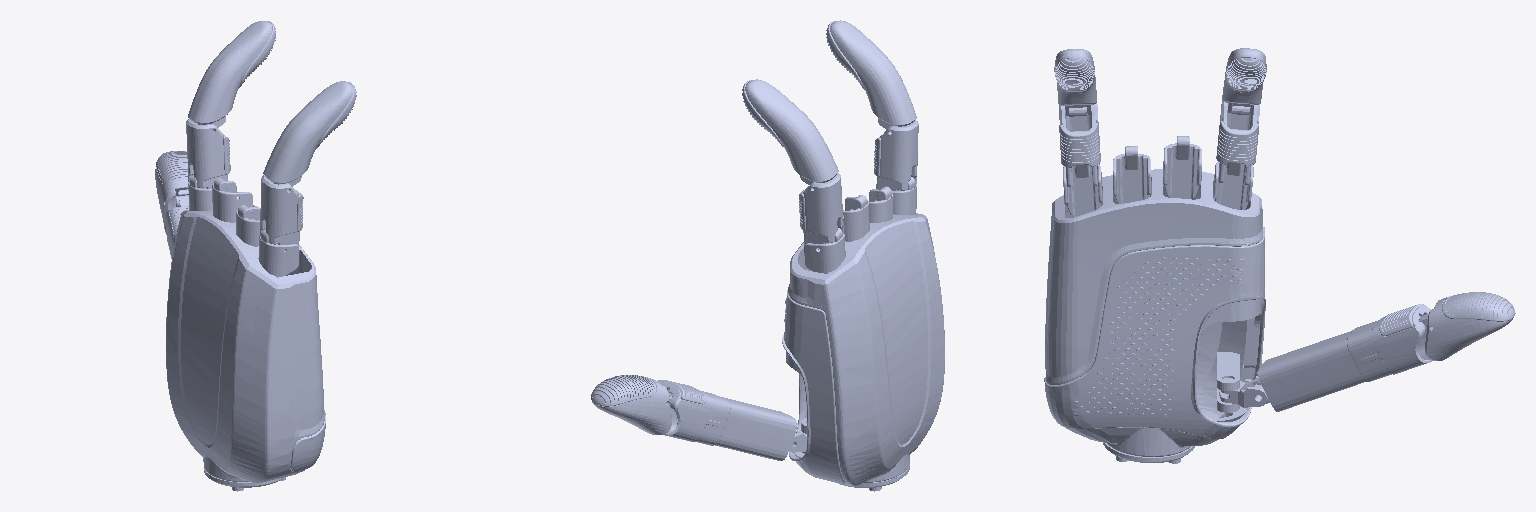
The robot description file, URDF, robot "linkerhand_L6V3.1_right":
<?xml version="1.0" encoding="utf-8"?>
<!-- This URDF was automatically created by SolidWorks to URDF Exporter! Originally created by Stephen Brawner (brawner@gmail.com) 
     Commit Version: 1.6.0-1-g15f4949  Build Version: 1.6.7594.29634
     For more information, please see http://wiki.ros.org/sw_urdf_exporter -->
<robot
  name="linkerhand_L6V3.1_right">
  <link
    name="hand_base_link">
    <inertial>
      <origin
        xyz="0.0120720994445363 -0.0533311205868962 0.118354546789334"
        rpy="0 0 0" />
      <mass
        value="0.525546548666235" />
      <inertia
        ixx="0.0187631035796005"
        ixy="-0.000730738470949583"
        ixz="1.75019990504221E-05"
        iyy="0.0015621317817439"
        iyz="-0.00131261480504079"
        izz="0.0174713068322666" />
    </inertial>
    <visual>
      <origin
        xyz="0 0 0"
        rpy="0 0 0" />
      <geometry>
        <mesh
          filename="meshes/hand_base_link.STL" />
      </geometry>
      <material
        name="">
        <color
          rgba="0.796078431372549 0.823529411764706 0.937254901960784 1" />
      </material>
    </visual>
    <collision>
      <origin
        xyz="0 0 0"
        rpy="0 0 0" />
      <geometry>
        <mesh
          filename="meshes/hand_base_link.STL" />
      </geometry>
    </collision>
  </link>
  <link
    name="thumb_metacarpals_base1">
    <inertial>
      <origin
        xyz="0.00425883553080008 -0.0873259584388277 0.0896834833730557"
        rpy="0 0 0" />
      <mass
        value="0.525546548666235" />
      <inertia
        ixx="0.0187631035796005"
        ixy="-0.000730904135775121"
        ixz="-8.011067551805E-06"
        iyy="0.00167307213734324"
        iyz="-0.00186430131719871"
        izz="0.0173603664766673" />
    </inertial>
    <visual>
      <origin
        xyz="0 0 0"
        rpy="0 0 0" />
      <geometry>
        <mesh
          filename="meshes/thumb_metacarpals_base1.STL" />
      </geometry>
      <material
        name="">
        <color
          rgba="0.796078431372549 0.823529411764706 0.937254901960784 1" />
      </material>
    </visual>
    <collision>
      <origin
        xyz="0 0 0"
        rpy="0 0 0" />
      <geometry>
        <mesh
          filename="meshes/thumb_metacarpals_base1.STL" />
      </geometry>
    </collision>
  </link>
  <joint
    name="thumb_cmc_roll"
    type="revolute">
    <origin
      xyz="0.0078133 0.030812 0.025678"
      rpy="-0.034907 0 0" />
    <parent
      link="hand_base_link" />
    <child
      link="thumb_metacarpals_base1" />
    <axis
      xyz="0 0 -1" />
    <limit
      lower="0"
      upper="1.53"
      effort="0"
      velocity="4.67" />
  </joint>
  <link
    name="thumb_metacarpals">
    <inertial>
      <origin
        xyz="0.0316012851206384 -0.121450158132549 -0.0438719467784548"
        rpy="0 0 0" />
      <mass
        value="0.525546548666235" />
      <inertia
        ixx="0.0173897805803727"
        ixy="0.00166977340768109"
        ixz="0.00443614151282338"
        iyy="0.0156514741779185"
        iyz="-0.00496661346948399"
        izz="0.00475528743531981" />
    </inertial>
    <visual>
      <origin
        xyz="0 0 0"
        rpy="0 0 0" />
      <geometry>
        <mesh
          filename="meshes/thumb_metacarpals.STL" />
      </geometry>
      <material
        name="">
        <color
          rgba="0.796078431372549 0.823529411764706 0.937254901960784 1" />
      </material>
    </visual>
    <collision>
      <origin
        xyz="0 0 0"
        rpy="0 0 0" />
      <geometry>
        <mesh
          filename="meshes/thumb_metacarpals.STL" />
      </geometry>
    </collision>
  </link>
  <joint
    name="thumb_cmc_pitch"
    type="revolute">
    <origin
      xyz="0.0045503 0.013664 0.0032288"
      rpy="-1.084 0.011362 -0.33143" />
    <parent
      link="thumb_metacarpals_base1" />
    <child
      link="thumb_metacarpals" />
    <axis
      xyz="1 0 0" />
    <limit
      lower="0"
      upper="0.73"
      effort="0"
      velocity="1.92" />
  </joint>
  <link
    name="thumb_distal">
    <inertial>
      <origin
        xyz="0.0316012851206471 -0.115350158132533 -0.126571946778471"
        rpy="0 0 0" />
      <mass
        value="0.525546548666235" />
      <inertia
        ixx="0.0173897805803722"
        ixy="0.00166977340768132"
        ixz="0.00443614151282414"
        iyy="0.0156514741779187"
        iyz="-0.00496661346948364"
        izz="0.0047552874353201" />
    </inertial>
    <visual>
      <origin
        xyz="0 0 0"
        rpy="0 0 0" />
      <geometry>
        <mesh
          filename="meshes/thumb_distal.STL" />
      </geometry>
      <material
        name="">
        <color
          rgba="0.796078431372549 0.823529411764706 0.937254901960784 1" />
      </material>
    </visual>
    <collision>
      <origin
        xyz="0 0 0"
        rpy="0 0 0" />
      <geometry>
        <mesh
          filename="meshes/thumb_distal.STL" />
      </geometry>
    </collision>
  </link>
  <joint
    name="thumb_dip"
    type="revolute">
    <origin
      xyz="0 -0.0061 0.0827"
      rpy="0 0 0" />
    <parent
      link="thumb_metacarpals" />
    <child
      link="thumb_distal" />
    <axis
      xyz="1 0 0" />
    <limit
      lower="0"
      upper="0.66"
      effort="0"
      velocity="1.7" />
    <mimic
      joint="thumb_cmc_pitch"
      multiplier="1.9"
      offset="0" />
  </joint>
  <link
    name="index_proximal">
    <inertial>
      <origin
        xyz="0.0127403110831121 -0.0862358557815982 -0.00532302727752912"
        rpy="0 0 0" />
      <mass
        value="0.525546548666235" />
      <inertia
        ixx="0.0187631035796022"
        ixy="-0.000729483190156132"
        ixz="-4.62526555258532E-05"
        iyy="0.00191091300899837"
        iyz="-0.00267397286461265"
        izz="0.0171225256050105" />
    </inertial>
    <visual>
      <origin
        xyz="0 0 0"
        rpy="0 0 0" />
      <geometry>
        <mesh
          filename="meshes/index_proximal.STL" />
      </geometry>
      <material
        name="">
        <color
          rgba="0.796078431372549 0.823529411764706 0.937254901960784 1" />
      </material>
    </visual>
    <collision>
      <origin
        xyz="0 0 0"
        rpy="0 0 0" />
      <geometry>
        <mesh
          filename="meshes/index_proximal.STL" />
      </geometry>
    </collision>
  </link>
  <joint
    name="index_mcp_pitch"
    type="revolute">
    <origin
      xyz="-0.00066821 0.033041 0.11614"
      rpy="-0.087266 0 0" />
    <parent
      link="hand_base_link" />
    <child
      link="index_proximal" />
    <axis
      xyz="0 1 0" />
    <limit
      lower="0"
      upper="1.22"
      effort="0"
      velocity="3.4" />
  </joint>
  <link
    name="index_distal">
    <inertial>
      <origin
        xyz="0.0115307725103063 -0.086235855781547 -0.0333147584930313"
        rpy="0 0 0" />
      <mass
        value="0.525546548666235" />
      <inertia
        ixx="0.0187631035796022"
        ixy="-0.000729483190156132"
        ixz="-4.62526555258353E-05"
        iyy="0.00191091300899824"
        iyz="-0.00267397286461229"
        izz="0.0171225256050106" />
    </inertial>
    <visual>
      <origin
        xyz="0 0 0"
        rpy="0 0 0" />
      <geometry>
        <mesh
          filename="meshes/index_distal.STL" />
      </geometry>
      <material
        name="">
        <color
          rgba="0.796078431372549 0.823529411764706 0.937254901960784 1" />
      </material>
    </visual>
    <collision>
      <origin
        xyz="0 0 0"
        rpy="0 0 0" />
      <geometry>
        <mesh
          filename="meshes/index_distal.STL" />
      </geometry>
    </collision>
  </link>
  <joint
    name="index_dip"
    type="revolute">
    <origin
      xyz="0.0012095 0 0.027992"
      rpy="0 0 0" />
    <parent
      link="index_proximal" />
    <child
      link="index_distal" />
    <axis
      xyz="0 1 0" />
    <limit
      lower="0"
      upper="1.08"
      effort="0"
      velocity="3" />
    <mimic
      joint="index_mcp_pitch"
      multiplier="1.88"
      offset="0" />
  </joint>
  <link
    name="middle_proximal">
    <inertial>
      <origin
        xyz="0.012740311083254 -0.0663304609280521 -0.00679987210490719"
        rpy="0 0 0" />
      <mass
        value="0.525546548666235" />
      <inertia
        ixx="0.0187631035796023"
        ixy="-0.000730904135754547"
        ixz="-8.01106754956061E-06"
        iyy="0.00167307213734148"
        iyz="-0.00186430131719871"
        izz="0.0173603664766673" />
    </inertial>
    <visual>
      <origin
        xyz="0 0 0"
        rpy="0 0 0" />
      <geometry>
        <mesh
          filename="meshes/middle_proximal.STL" />
      </geometry>
      <material
        name="">
        <color
          rgba="0.796078431372549 0.823529411764706 0.937254901960784 1" />
      </material>
    </visual>
    <collision>
      <origin
        xyz="0 0 0"
        rpy="0 0 0" />
      <geometry>
        <mesh
          filename="meshes/middle_proximal.STL" />
      </geometry>
    </collision>
  </link>
  <joint
    name="middle_mcp_pitch"
    type="revolute">
    <origin
      xyz="-0.00066821 0.013196 0.12284"
      rpy="-0.034907 0 0" />
    <parent
      link="hand_base_link" />
    <child
      link="middle_proximal" />
    <axis
      xyz="0 1 0" />
    <limit
      lower="0"
      upper="1.22"
      effort="0"
      velocity="3.4" />
  </joint>
  <link
    name="middle_distal">
    <inertial>
      <origin
        xyz="0.0118044127355904 -0.0663304609280288 -0.0348020879865608"
        rpy="0 0 0" />
      <mass
        value="0.525546548666235" />
      <inertia
        ixx="0.0187631035796051"
        ixy="-0.000730904135720681"
        ixz="-8.01106754586631E-06"
        iyy="0.00167307213733858"
        iyz="-0.00186430131719873"
        izz="0.0173603664766673" />
    </inertial>
    <visual>
      <origin
        xyz="0 0 0"
        rpy="0 0 0" />
      <geometry>
        <mesh
          filename="meshes/middle_distal.STL" />
      </geometry>
      <material
        name="">
        <color
          rgba="0.796078431372549 0.823529411764706 0.937254901960784 1" />
      </material>
    </visual>
    <collision>
      <origin
        xyz="0 0 0"
        rpy="0 0 0" />
      <geometry>
        <mesh
          filename="meshes/middle_distal.STL" />
      </geometry>
    </collision>
  </link>
  <joint
    name="middle_dip"
    type="revolute">
    <origin
      xyz="0.0009359 0 0.028002"
      rpy="0 0 0" />
    <parent
      link="middle_proximal" />
    <child
      link="middle_distal" />
    <axis
      xyz="0 1 0" />
    <limit
      lower="0"
      upper="1.08"
      effort="0"
      velocity="3" />
    <mimic
      joint="middle_mcp_pitch"
      multiplier="1.88"
      offset="0" />
  </joint>
  <link
    name="ring_proximal">
    <inertial>
      <origin
        xyz="0.0130677258647359 -0.0467425736594385 0.000410608285063799"
        rpy="0 0 0" />
      <mass
        value="0.525546548666235" />
      <inertia
        ixx="0.018763104126348"
        ixy="-0.000730331071151995"
        ixz="3.02411730475021E-05"
        iyy="0.0015211679054796"
        iyz="-0.00103419749370512"
        izz="0.0175122701617834" />
    </inertial>
    <visual>
      <origin
        xyz="0 0 0"
        rpy="0 0 0" />
      <geometry>
        <mesh
          filename="meshes/ring_proximal.STL" />
      </geometry>
      <material
        name="">
        <color
          rgba="0.796078431372549 0.823529411764706 0.937254901960784 1" />
      </material>
    </visual>
    <collision>
      <origin
        xyz="0 0 0"
        rpy="0 0 0" />
      <geometry>
        <mesh
          filename="meshes/ring_proximal.STL" />
      </geometry>
    </collision>
  </link>
  <joint
    name="ring_mcp_pitch"
    type="revolute">
    <origin
      xyz="-0.00099562 -0.0065885 0.11876"
      rpy="0.017453 0 0" />
    <parent
      link="hand_base_link" />
    <child
      link="ring_proximal" />
    <axis
      xyz="0 1 0" />
    <limit
      lower="0"
      upper="1.22"
      effort="0"
      velocity="3.4" />
  </joint>
  <link
    name="ring_distal">
    <inertial>
      <origin
        xyz="0.0121318275167904 -0.0467425736594119 -0.0275916075965142"
        rpy="0 0 0" />
      <mass
        value="0.525546548666235" />
      <inertia
        ixx="0.0187631041263469"
        ixy="-0.000730331071165334"
        ixz="3.02411730467175E-05"
        iyy="0.00152116790548068"
        iyz="-0.0010341974937048"
        izz="0.0175122701617834" />
    </inertial>
    <visual>
      <origin
        xyz="0 0 0"
        rpy="0 0 0" />
      <geometry>
        <mesh
          filename="meshes/ring_distal.STL" />
      </geometry>
      <material
        name="">
        <color
          rgba="0.796078431372549 0.823529411764706 0.937254901960784 1" />
      </material>
    </visual>
    <collision>
      <origin
        xyz="0 0 0"
        rpy="0 0 0" />
      <geometry>
        <mesh
          filename="meshes/ring_distal.STL" />
      </geometry>
    </collision>
  </link>
  <joint
    name="ring_dip"
    type="revolute">
    <origin
      xyz="0.0009359 0 0.028002"
      rpy="0 0 0" />
    <parent
      link="ring_proximal" />
    <child
      link="ring_distal" />
    <axis
      xyz="0 1 0" />
    <limit
      lower="0"
      upper="1.08"
      effort="0"
      velocity="3" />
    <mimic
      joint="ring_mcp_pitch"
      multiplier="1.88"
      offset="0" />
  </joint>
  <link
    name="pinky_proximal">
    <inertial>
      <origin
        xyz="0.0127534854800234 -0.0273184671200355 0.00458170077943068"
        rpy="0 0 0" />
      <mass
        value="0.525546548666235" />
      <inertia
        ixx="0.0187632549861503"
        ixy="-0.000727038668127835"
        ixz="5.57600408345778E-05"
        iyy="0.00146835183666982"
        iyz="-0.000473931008879042"
        izz="0.0175649353707909" />
    </inertial>
    <visual>
      <origin
        xyz="0 0 0"
        rpy="0 0 0" />
      <geometry>
        <mesh
          filename="meshes/pinky_proximal.STL" />
      </geometry>
      <material
        name="">
        <color
          rgba="0.796078431372549 0.823529411764706 0.937254901960784 1" />
      </material>
    </visual>
    <collision>
      <origin
        xyz="0 0 0"
        rpy="0 0 0" />
      <geometry>
        <mesh
          filename="meshes/pinky_proximal.STL" />
      </geometry>
    </collision>
  </link>
  <joint
    name="pinky_mcp_pitch"
    type="revolute">
    <origin
      xyz="-0.00067852 -0.025809 0.11521"
      rpy="0.05236 0 -0.00010364" />
    <parent
      link="hand_base_link" />
    <child
      link="pinky_proximal" />
    <axis
      xyz="0 1 0" />
    <limit
      lower="0"
      upper="1.22"
      effort="0"
      velocity="3.4" />
  </joint>
  <link
    name="pinky_distal">
    <inertial>
      <origin
        xyz="0.0118175871372129 -0.0273185638038546 -0.023420515102182"
        rpy="0 0 0" />
      <mass
        value="0.525546548666235" />
      <inertia
        ixx="0.0187632549861503"
        ixy="-0.000727038668127835"
        ixz="5.57600408345778E-05"
        iyy="0.00146835183666982"
        iyz="-0.000473931008879042"
        izz="0.0175649353707909" />
    </inertial>
    <visual>
      <origin
        xyz="0 0 0"
        rpy="0 0 0" />
      <geometry>
        <mesh
          filename="meshes/pinky_distal.STL" />
      </geometry>
      <material
        name="">
        <color
          rgba="0.796078431372549 0.823529411764706 0.937254901960784 1" />
      </material>
    </visual>
    <collision>
      <origin
        xyz="0 0 0"
        rpy="0 0 0" />
      <geometry>
        <mesh
          filename="meshes/pinky_distal.STL" />
      </geometry>
    </collision>
  </link>
  <joint
    name="pinky_dip"
    type="revolute">
    <origin
      xyz="0.0009359 0 0.028002"
      rpy="0 0 0" />
    <parent
      link="pinky_proximal" />
    <child
      link="pinky_distal" />
    <axis
      xyz="0 1 0" />
    <limit
      lower="0"
      upper="1.08"
      effort="0"
      velocity="3" />
    <mimic
      joint="pinky_mcp_pitch"
      multiplier="1.88"
      offset="0" />
  </joint>
</robot>

--- Facts derived from the render (not from the file) ---
The picture shows the robot from 3 angles, left to right: view 1: azimuth 30°, elevation 25°; view 2: azimuth 150°, elevation 25°; view 3: azimuth 270°, elevation 25°; orthographic projection.
Model linkerhand_L6V3.1_right with 12 links and 11 joints (11 revolute), rooted at hand_base_link, posed every joint at zero.
Visible links, largest first — view 1: hand_base_link, pinky_distal, index_distal, pinky_proximal, index_proximal, thumb_distal, thumb_metacarpals; view 2: hand_base_link, thumb_metacarpals, index_distal, pinky_distal, thumb_distal, pinky_proximal, index_proximal; view 3: hand_base_link, thumb_metacarpals, thumb_distal, pinky_distal, index_distal, pinky_proximal, index_proximal, thumb_metacarpals_base1.
Boxes of the visible links, box(x1,y1,x2,y2) form: hand_base_link: box(166, 175, 325, 491); pinky_distal: box(263, 81, 356, 186); index_distal: box(188, 21, 275, 130); pinky_proximal: box(260, 175, 303, 250); index_proximal: box(186, 119, 230, 188); thumb_distal: box(155, 151, 188, 232); thumb_metacarpals: box(165, 195, 188, 258); hand_base_link: box(782, 177, 944, 491); thumb_metacarpals: box(657, 380, 797, 460); index_distal: box(742, 79, 838, 184); pinky_distal: box(826, 20, 916, 129); thumb_distal: box(591, 375, 671, 434); pinky_proximal: box(874, 120, 918, 190); index_proximal: box(799, 173, 843, 249); hand_base_link: box(1044, 136, 1265, 463); thumb_metacarpals: box(1255, 304, 1431, 411); thumb_distal: box(1425, 292, 1515, 360); pinky_distal: box(1054, 49, 1096, 116); index_distal: box(1222, 48, 1266, 115); pinky_proximal: box(1059, 103, 1100, 186); index_proximal: box(1216, 100, 1259, 185); thumb_metacarpals_base1: box(1219, 376, 1268, 407).
Bounding box of the posed robot: 0.0733 × 0.1825 × 0.1858 m (x, y, z).
Meshes: 12 distinct files referenced, 8 mesh visuals loaded (8 binary STL); not drawn: 4 (reference not matched to a file when rendering).
